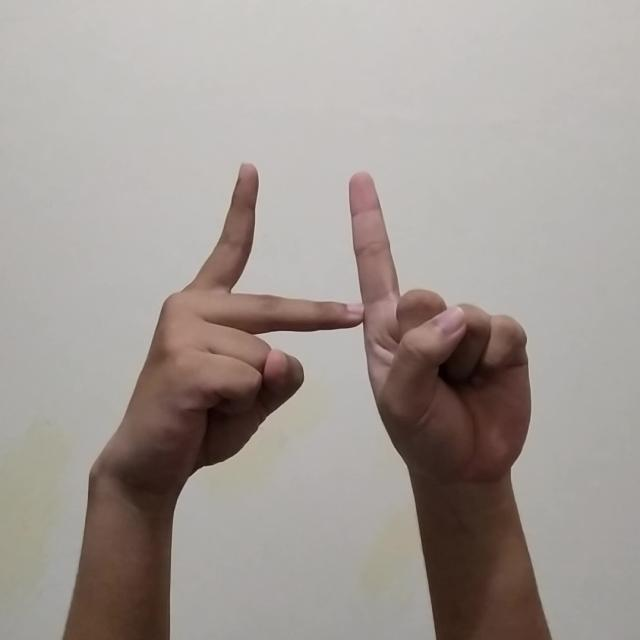H: (96, 154, 540, 492)
